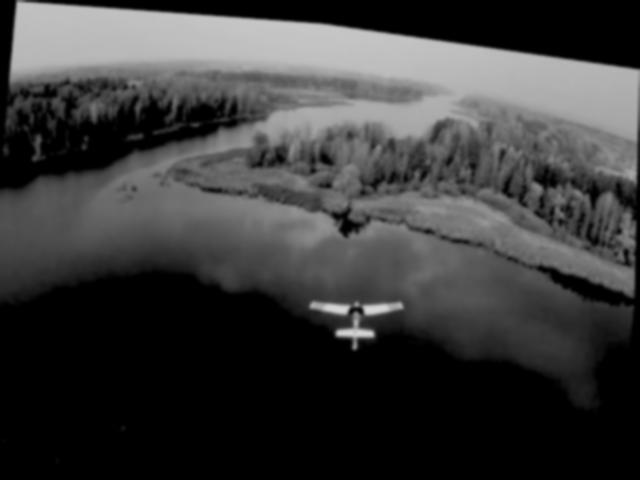hedef: (309, 273, 406, 351)
